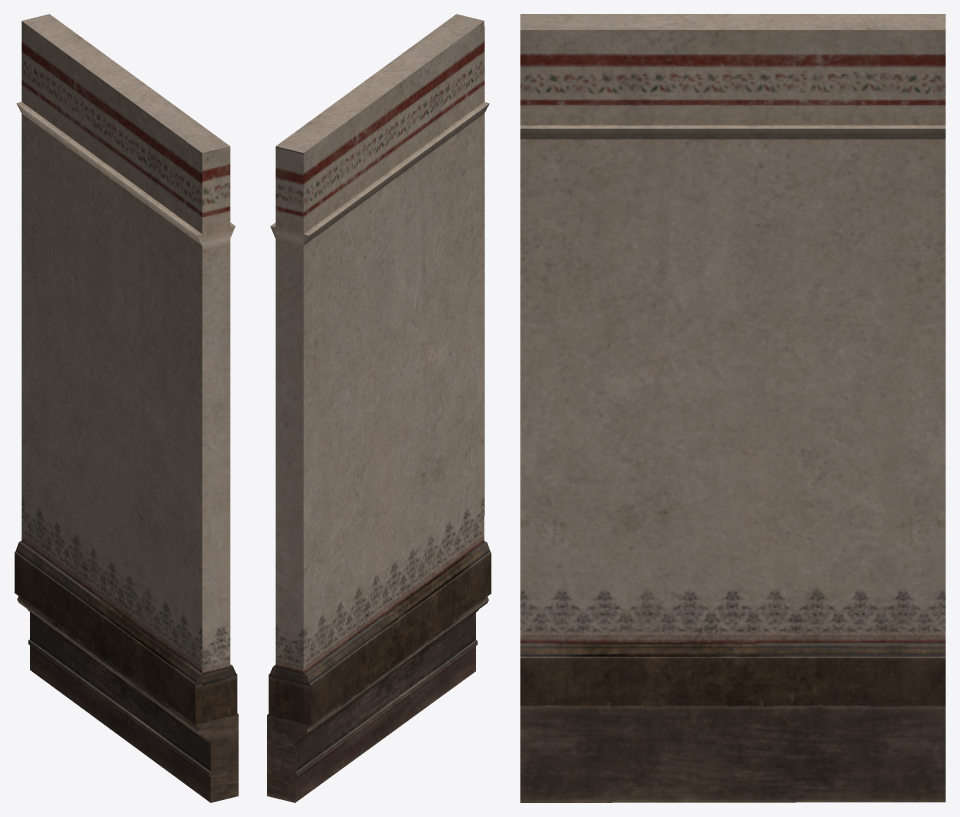
Rendered from WallCut.fbx.
3 renders of one model, left to right at view 1: azimuth 30°, elevation 25°; view 2: azimuth 150°, elevation 25°; view 3: azimuth 270°, elevation 25°, orthographic. The views are drawn at different scales.
Visible parts, largest first — view 1: 4kWallCut1_LOD0; view 2: 4kWallCut1_LOD0; view 3: 4kWallCut1_LOD0.
Boxes of the visible parts, x1,y1,x2,y2 form: 4kWallCut1_LOD0: [14, 14, 238, 802]; 4kWallCut1_LOD0: [267, 14, 491, 802]; 4kWallCut1_LOD0: [520, 14, 945, 802].
Bounding box in the file's own units: 22.45 × 319 × 160.
